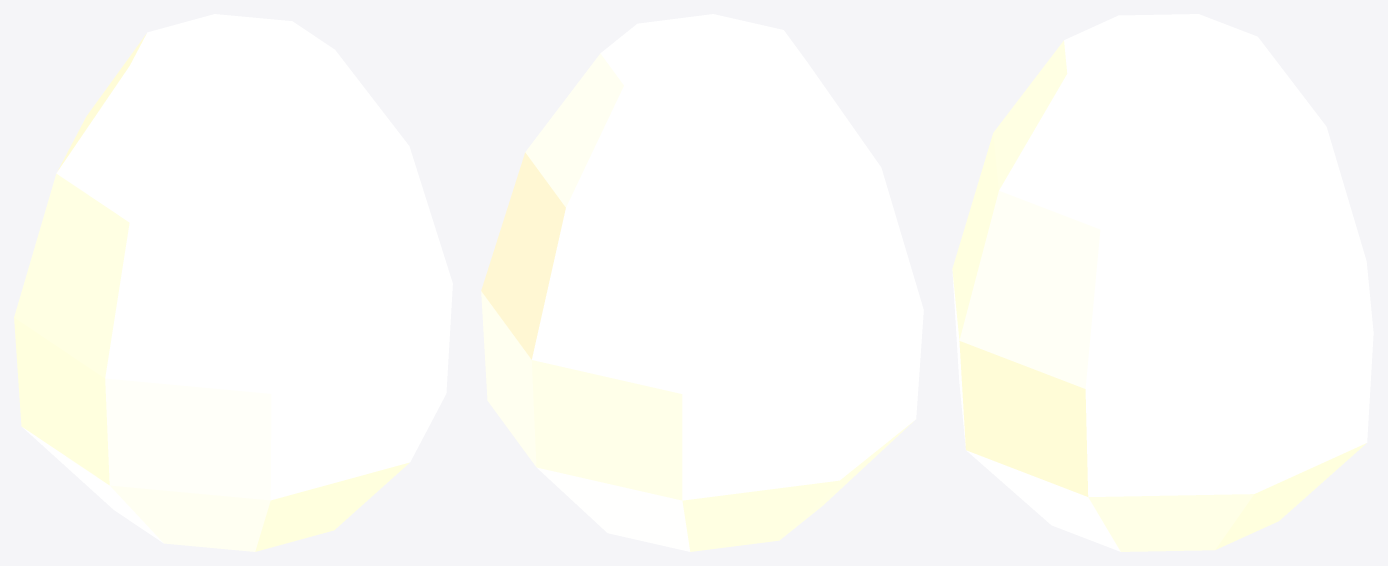
The model's file is Unity2Skfb.gltf.
The picture shows the model from 3 angles, left to right: view 1: azimuth 30°, elevation 25°; view 2: azimuth 150°, elevation 25°; view 3: azimuth 270°, elevation 25°; orthographic projection.
Parts seen in each view (by area): view 1: node_egg-chicken_(5)_-256036; view 2: node_egg-chicken_(5)_-256036; view 3: node_egg-chicken_(5)_-256036.
Part boxes in pixels (left/top/right/bottom): node_egg-chicken_(5)_-256036: left=14, top=14, right=452, bottom=551; node_egg-chicken_(5)_-256036: left=481, top=14, right=923, bottom=551; node_egg-chicken_(5)_-256036: left=952, top=14, right=1373, bottom=551.
Bounding box in the file's own units: 0.3824 × 0.5173 × 0.3824.
